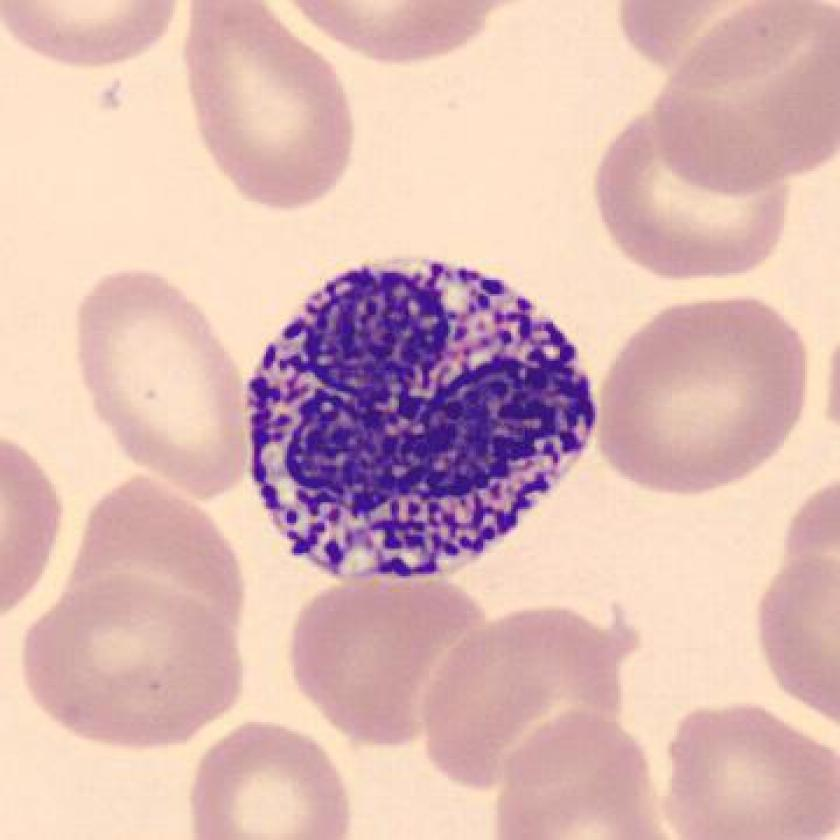basophil: (241, 244, 610, 584)
